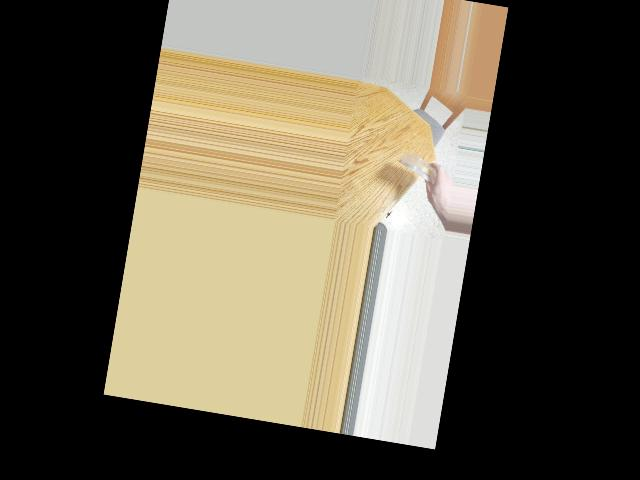cheese: (394, 151, 444, 183)
